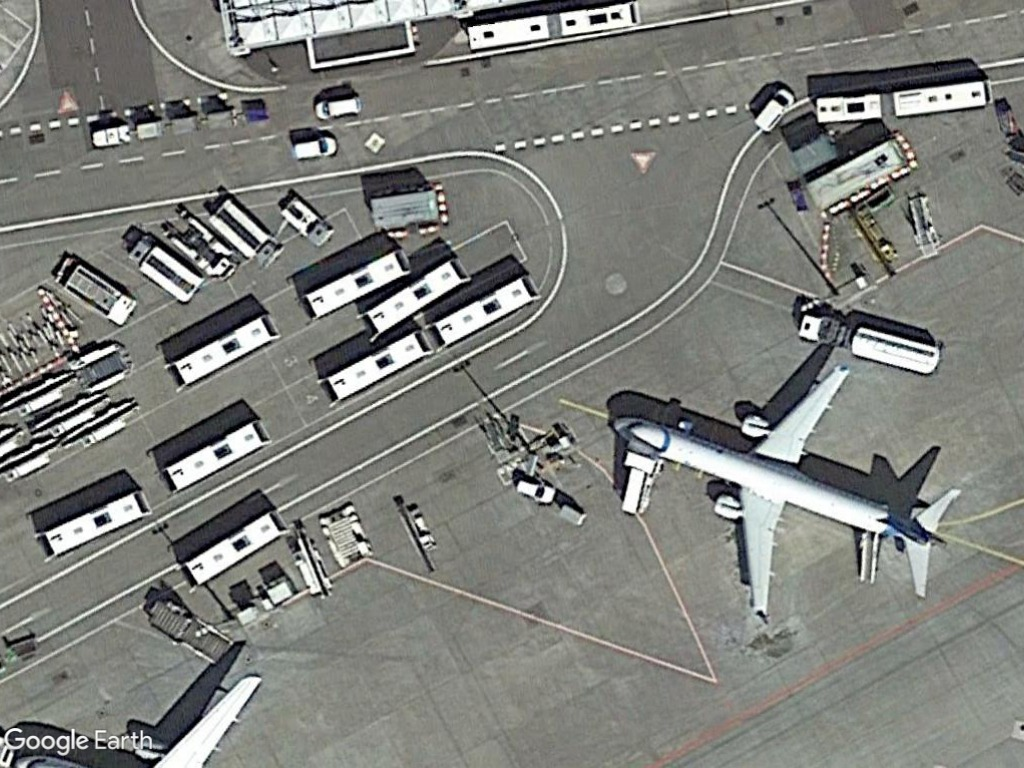airliner: (586, 351, 970, 622)
bus: (179, 504, 294, 591), (166, 308, 282, 394), (427, 269, 547, 352), (160, 415, 273, 499), (297, 244, 410, 325), (319, 328, 437, 403), (38, 486, 154, 561), (364, 254, 466, 337), (884, 77, 992, 119), (557, 0, 642, 45), (459, 12, 558, 50), (812, 91, 891, 124)
car: (513, 475, 559, 509)
longvehicle: (844, 324, 951, 378)
other: (49, 253, 142, 328), (200, 197, 287, 272), (120, 231, 208, 304), (278, 195, 340, 250)
pushbacktruck: (156, 210, 237, 279)
van: (748, 70, 798, 138), (297, 90, 376, 124), (285, 129, 345, 164)
